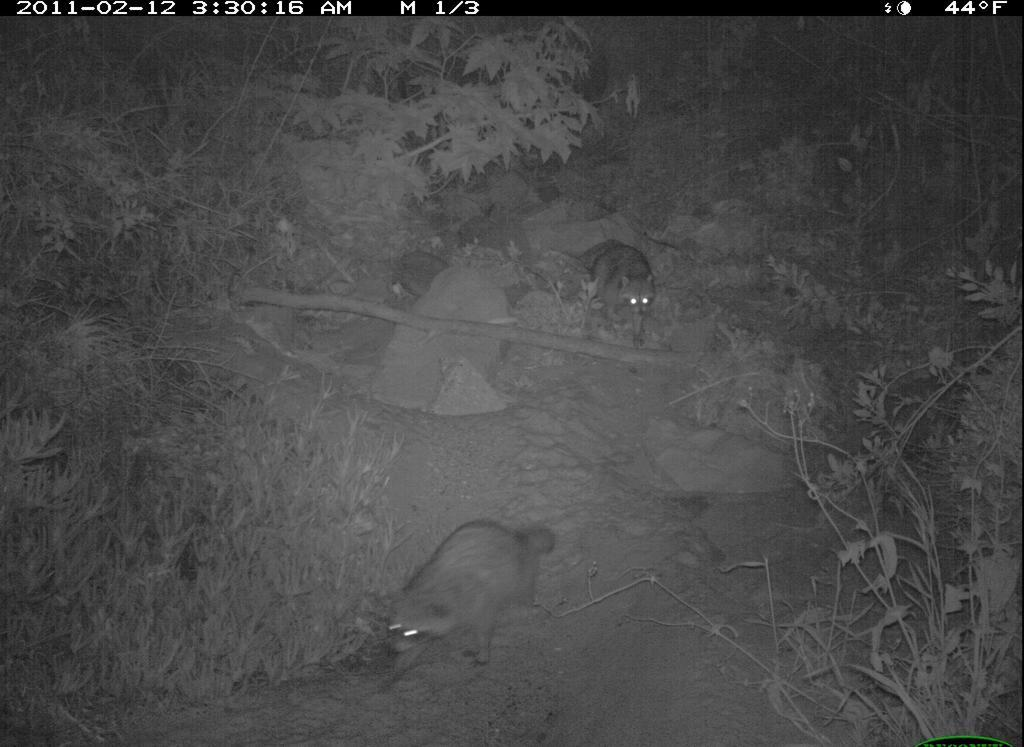raccoon: (373, 515, 568, 696), (568, 232, 670, 349)
